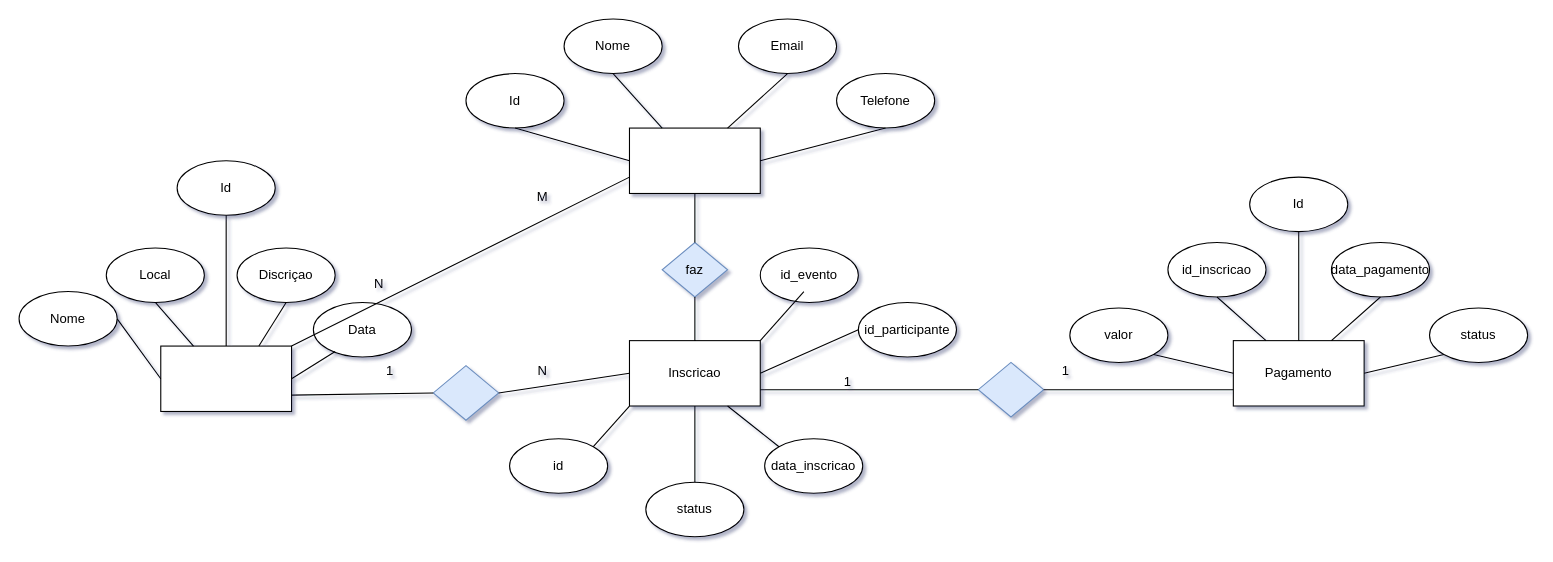
Image size: 1553x562. Some labels were removed from this diagram. The shapes that lost their labels are listed below. From the top down, each one's box as (x1, y1, x2, y2) in pixels, then its label:
(628, 127, 760, 193): Participante
(160, 345, 292, 411): Evento
(432, 365, 499, 420): possui
(977, 361, 1044, 417): tem
